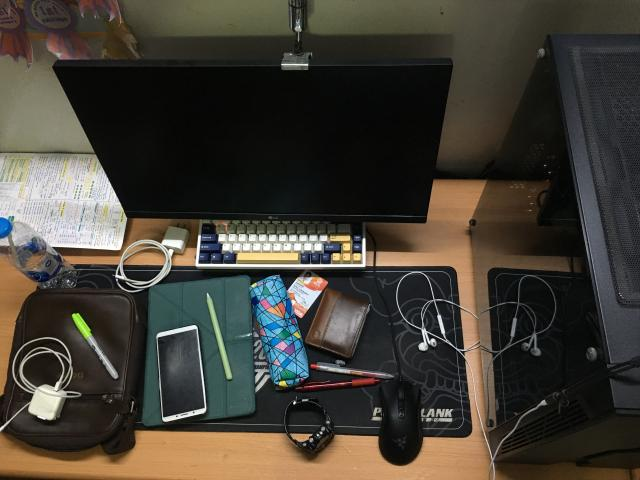Mobile phone: (156, 325, 208, 422)
Mouse: (379, 380, 422, 465)
Pen: (71, 312, 119, 379), (310, 362, 395, 379), (295, 378, 380, 392)
Wallet: (305, 288, 370, 359)
Watch: (284, 398, 335, 454)
bottle: (0, 218, 78, 289)
paper: (0, 152, 126, 250)
wire: (0, 338, 81, 431), (395, 270, 462, 351), (115, 226, 189, 292)
